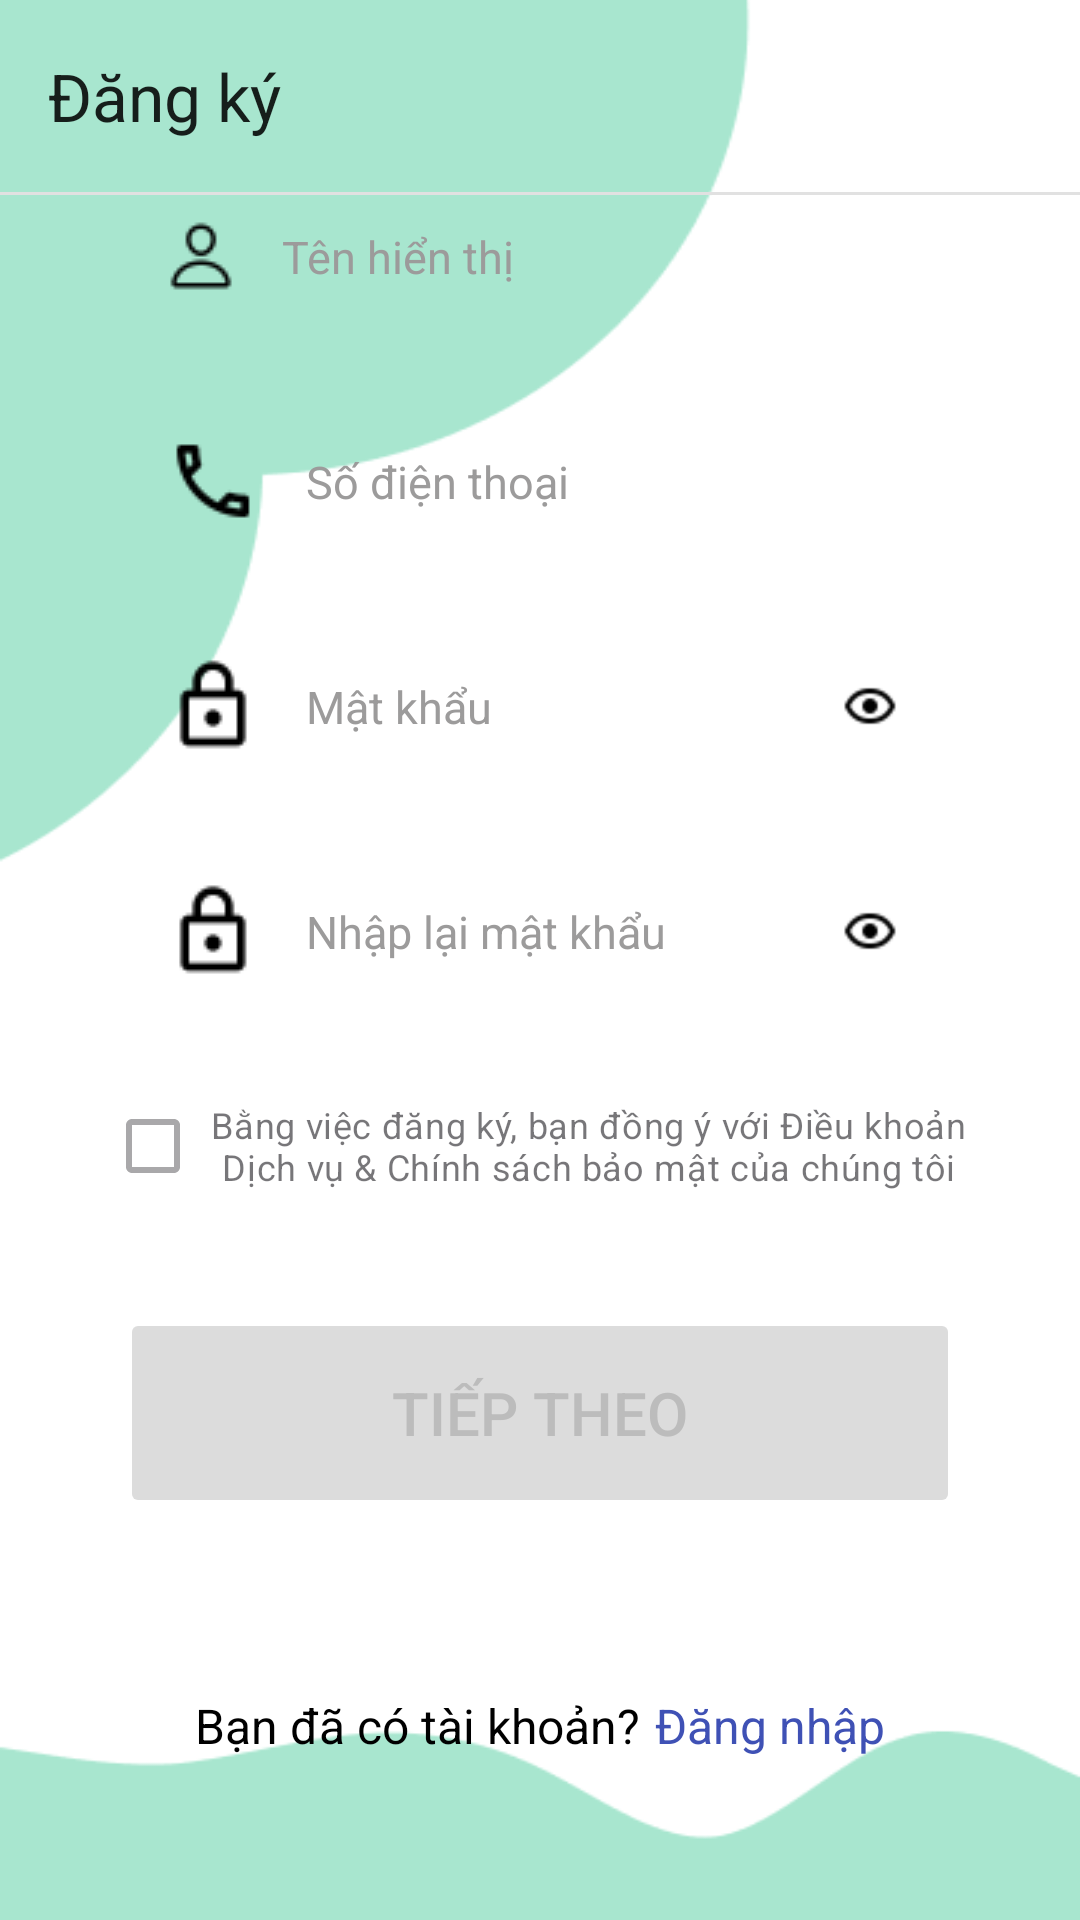

Named icons in this screenshot (1080x1920) and their centers, [x,y]:
show pwd: [870,706], [870,931]
